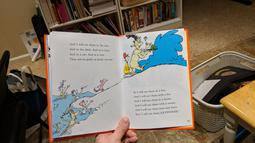text block: (131, 88, 183, 117), (64, 38, 116, 66)
